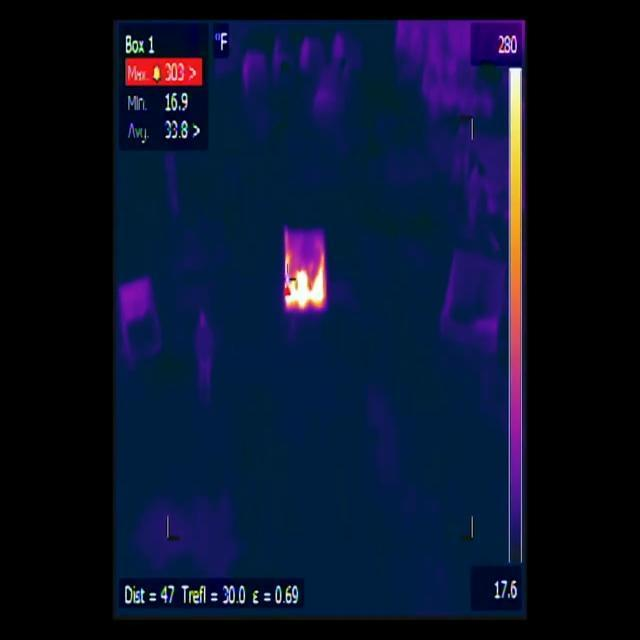fire: (283, 245, 331, 314)
